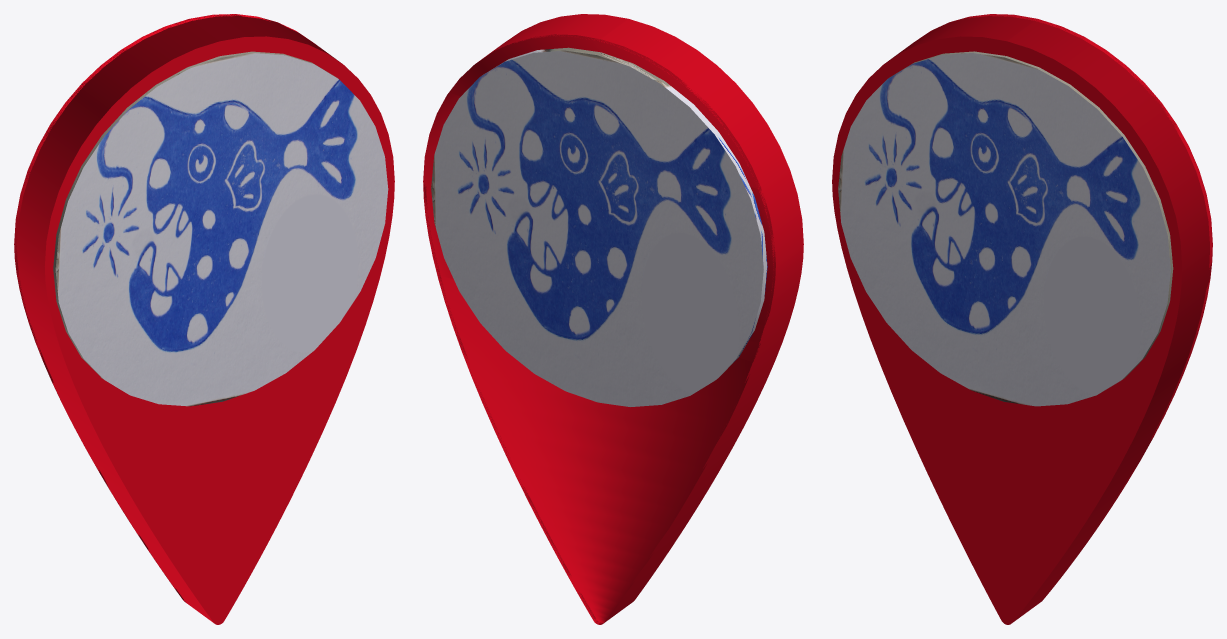
File: suzy.glb
The picture shows the model from 3 angles, left to right: view 1: azimuth 30°, elevation 25°; view 2: azimuth 150°, elevation 25°; view 3: azimuth 330°, elevation 25°; orthographic projection.
Parts seen in each view (by area): view 1: Cylindre, Curve; view 2: Cylindre, Curve; view 3: Cylindre, Curve.
Boxes of the visible parts, x1,y1,x2,y2 form: Cylindre: [53, 51, 388, 406]; Curve: [14, 14, 394, 624]; Cylindre: [431, 47, 767, 406]; Curve: [423, 14, 803, 624]; Cylindre: [838, 51, 1173, 406]; Curve: [832, 14, 1212, 624].
Size of the model in its own units: 0.2766 by 0.4404 by 0.0478.
2 materials, 1 textured.
